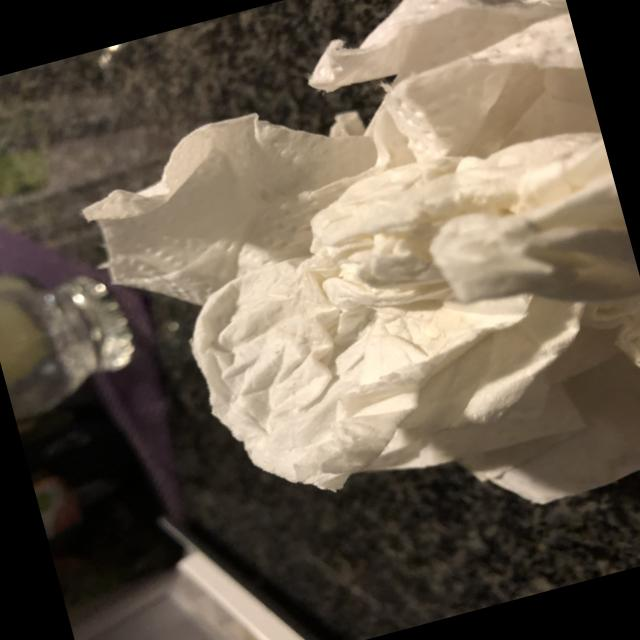organic waste: (142, 117, 640, 596), (36, 0, 618, 333)
